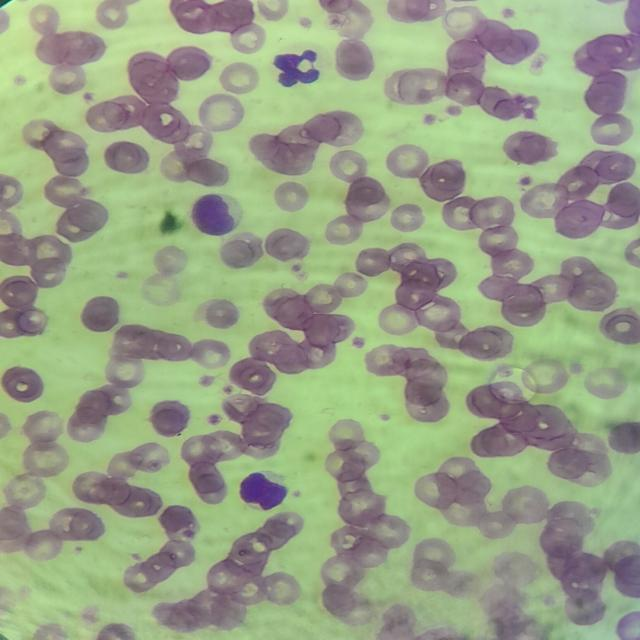Neutrofilo: (235, 468, 290, 511), (191, 191, 244, 233), (271, 45, 324, 87)
